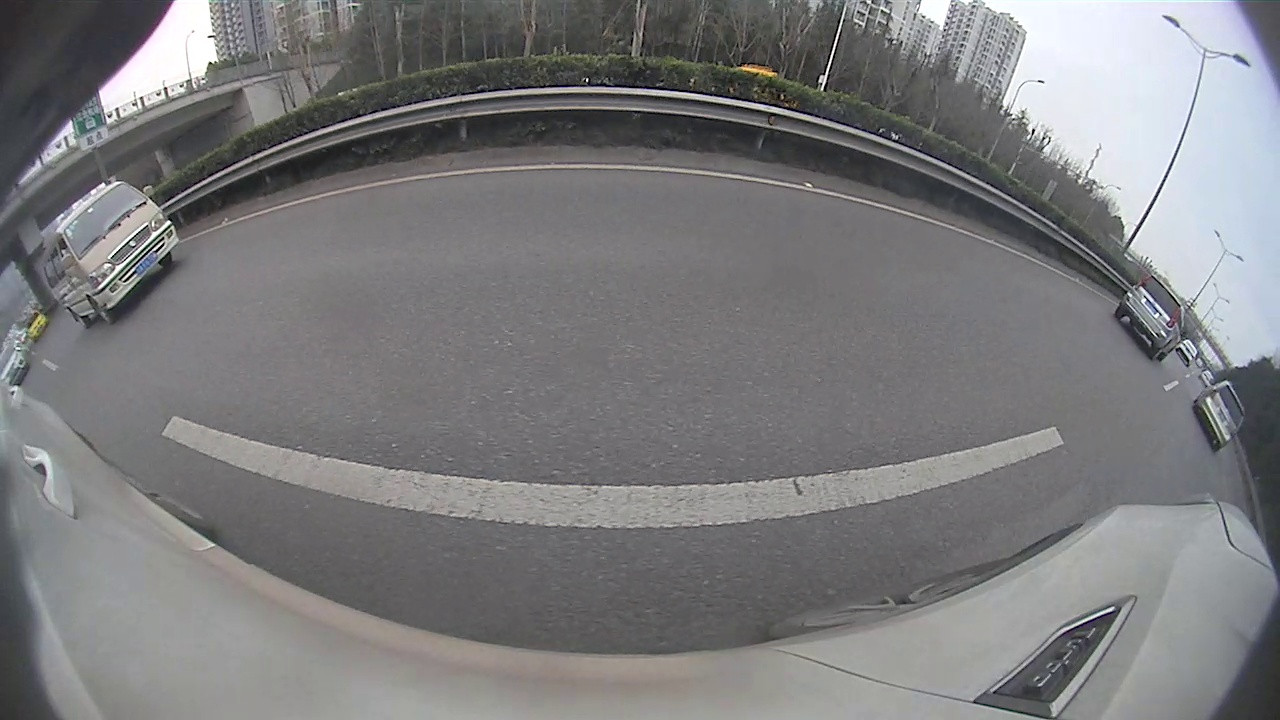car: (32, 182, 177, 327), (1113, 276, 1184, 364), (1190, 379, 1246, 452)
